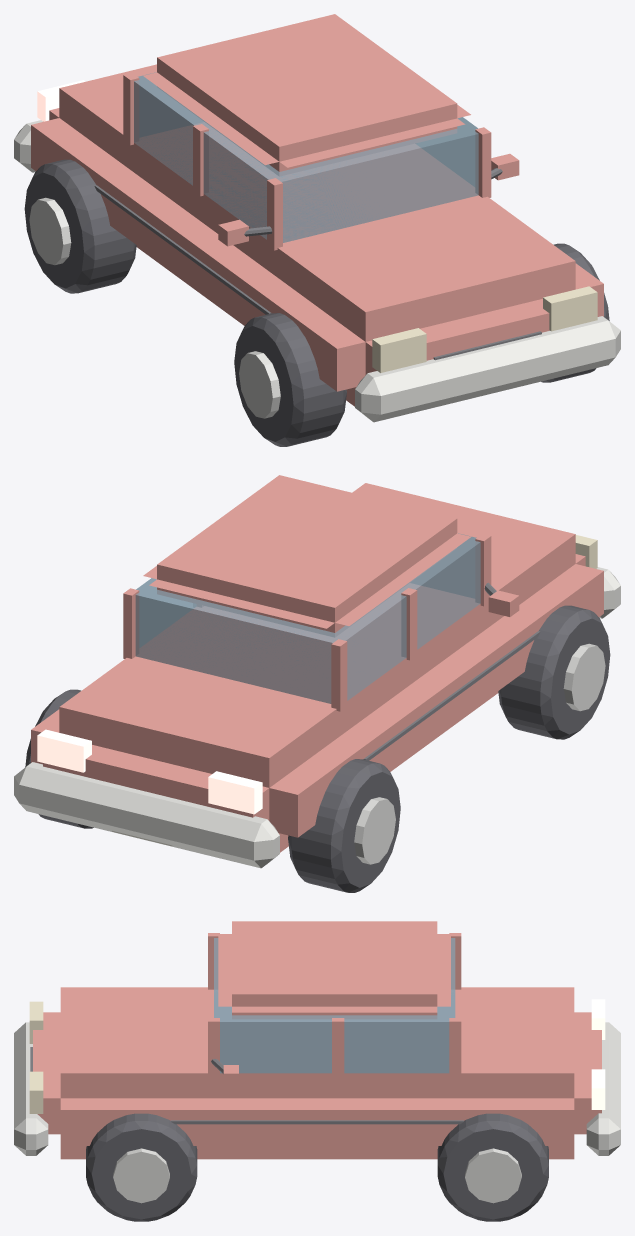
Rendered from Vehicle_Car_A.fbx.
3 views of the same model, one above another, from view 1: azimuth 30°, elevation 25°; view 2: azimuth 150°, elevation 25°; view 3: azimuth 270°, elevation 25° (orthographic). The views are drawn at different scales.
Parts seen in each view (by area): view 1: Vehicle_Car_A; view 2: Vehicle_Car_A; view 3: Vehicle_Car_A.
Boxes of the visible parts, <box> form: Vehicle_Car_A: <box>14,14,620,446</box>; Vehicle_Car_A: <box>14,475,620,892</box>; Vehicle_Car_A: <box>14,921,620,1221</box>.
Bounding box in the file's own units: 1.87 × 1.29 × 3.52.
